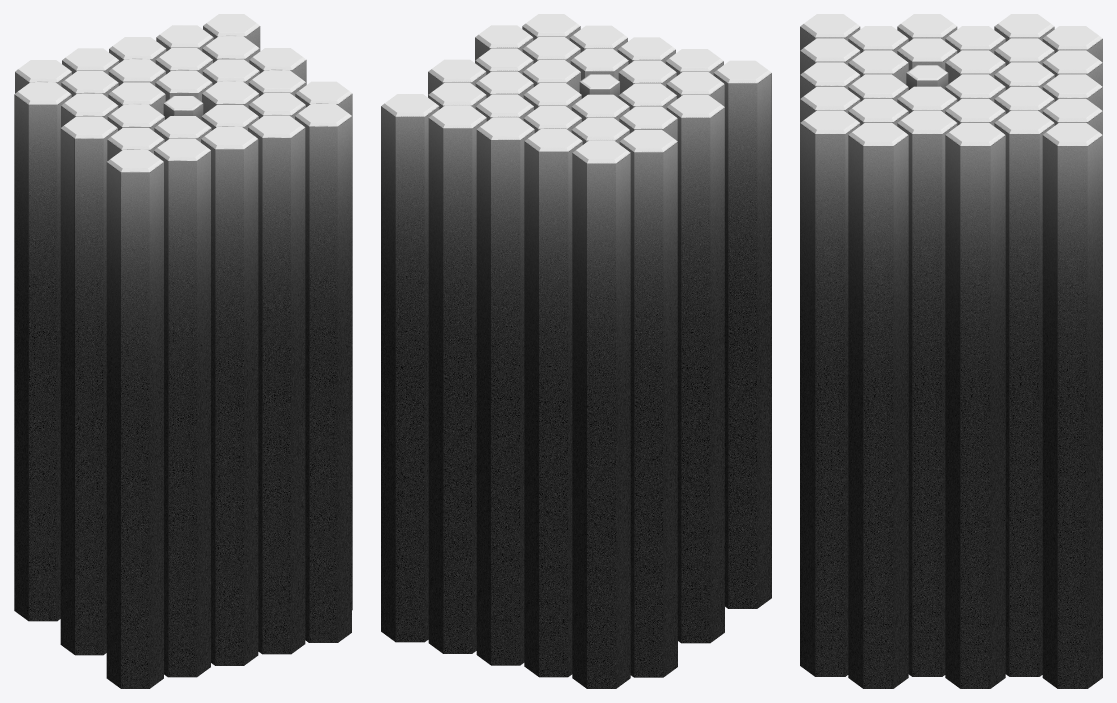
The model's file is hexa_with_edge_single_object_scaled.glb.
The picture shows the model from 3 angles, left to right: view 1: azimuth 30°, elevation 25°; view 2: azimuth 150°, elevation 25°; view 3: azimuth 270°, elevation 25°; orthographic projection. The views are drawn at different scales.
Visible parts, largest first — view 1: Cylinder.010, Cylinder.009, Cylinder.008, Cylinder.002, Cylinder.022, Cylinder.011, Cylinder.018, Cylinder.019, Cylinder.029, Cylinder.004, Cylinder.017, Cylinder.006 (+18 smaller); view 2: Cylinder.026, Cylinder.024, Cylinder.027, Cylinder.025, Cylinder.029, Cylinder.022, Cylinder.002, Cylinder.010, Cylinder.012, Cylinder.017, Cylinder.019, Cylinder.006 (+18 smaller); view 3: Cylinder.029, Cylinder.017, Cylinder.019, Cylinder.018, Cylinder.028, Cylinder.016, Cylinder.026, Cylinder.008, Cylinder.010, Cylinder.027, Cylinder.024, Cylinder.003 (+18 smaller).
Part boxes in pixels (x1,y1,x2,y2): Cylinder.010: (106, 150, 163, 688); Cylinder.009: (248, 115, 305, 654); Cylinder.008: (201, 127, 258, 665); Cylinder.002: (60, 116, 117, 655); Cylinder.022: (14, 82, 71, 621); Cylinder.011: (154, 138, 210, 677); Cylinder.018: (295, 104, 351, 642); Cylinder.019: (295, 81, 352, 610); Cylinder.029: (203, 14, 260, 51); Cylinder.004: (155, 70, 212, 101); Cylinder.017: (249, 48, 306, 85); Cylinder.006: (61, 93, 118, 127); Cylinder.026: (572, 140, 630, 688); Cylinder.024: (476, 117, 534, 665); Cylinder.027: (524, 129, 582, 677); Cylinder.025: (428, 105, 486, 653); Cylinder.029: (381, 94, 439, 642); Cylinder.022: (619, 129, 677, 677); Cylinder.002: (666, 95, 724, 643); Cylinder.010: (713, 60, 771, 608); Cylinder.012: (570, 48, 628, 80); Cylinder.017: (428, 59, 486, 97); Cylinder.019: (475, 25, 533, 62); Cylinder.006: (619, 106, 677, 140); Cylinder.029: (1042, 122, 1102, 688); Cylinder.017: (945, 122, 1005, 688); Cylinder.019: (848, 122, 908, 688); Cylinder.018: (800, 110, 860, 676); Cylinder.028: (994, 110, 1054, 676); Cylinder.016: (897, 110, 957, 676); Cylinder.026: (1042, 26, 1102, 62); Cylinder.008: (800, 62, 860, 98); Cylinder.010: (800, 14, 860, 50); Cylinder.027: (1042, 50, 1102, 86); Cylinder.024: (1042, 74, 1102, 110); Cylinder.003: (897, 38, 957, 70).
Bounding box in the file's own units: 36.9 × 71.92 × 36.15.
Materials: 1 (1 with a texture image).
